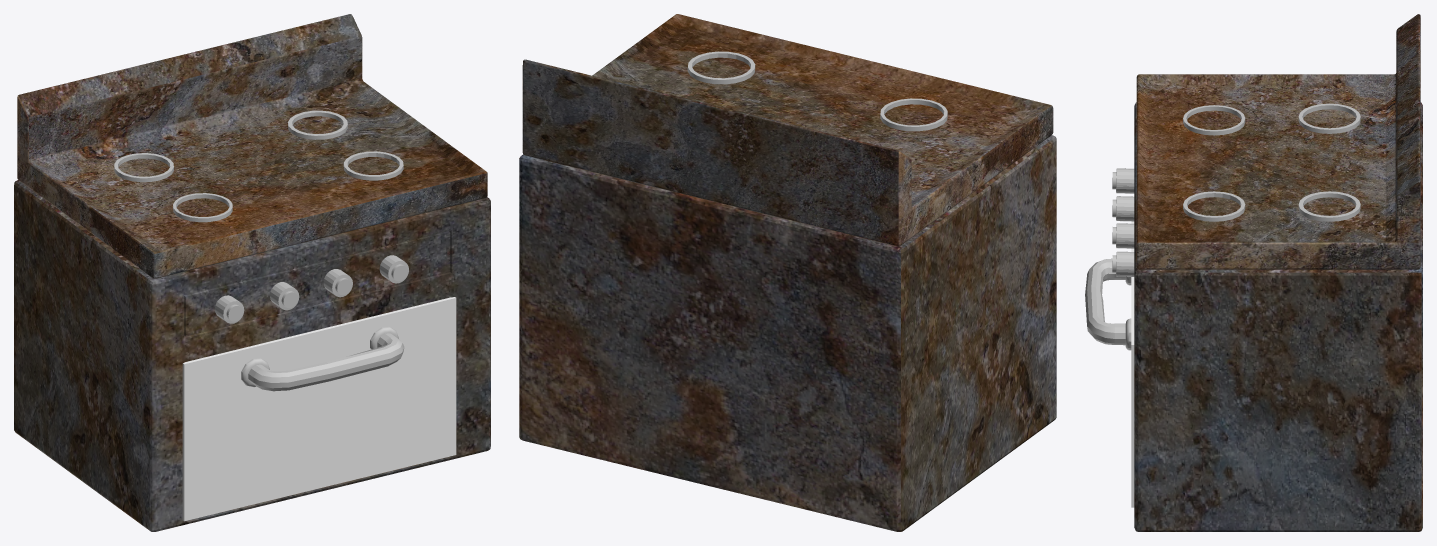
Rendered from FogaoRE1.fbx.
3 renders of one model, left to right at view 1: azimuth 30°, elevation 25°; view 2: azimuth 150°, elevation 25°; view 3: azimuth 270°, elevation 25°, orthographic. The views are drawn at different scales.
Visible parts, largest first — view 1: pCube1, pCube2, pCube3, pCylinder8, pCylinder13, pCylinder5, pCylinder4, pCylinder3, pCylinder2; view 2: pCube1, pCube2, pCylinder13; view 3: pCube1, pCube2, pCylinder13, pCylinder8, pCube3, pCylinder4, pCylinder2, pCylinder3, pCylinder5.
Part boxes in pixels (<box>): pCube1: <box>14,180,490,531</box>; pCube2: <box>17,14,487,278</box>; pCube3: <box>182,297,456,521</box>; pCylinder8: <box>241,326,404,391</box>; pCylinder13: <box>114,110,403,222</box>; pCylinder5: <box>379,255,408,283</box>; pCylinder4: <box>323,269,352,297</box>; pCylinder3: <box>269,282,299,310</box>; pCylinder2: <box>214,295,244,323</box>; pCube1: <box>519,135,1056,531</box>; pCube2: <box>522,14,1053,246</box>; pCylinder13: <box>687,51,947,131</box>; pCube1: <box>1134,102,1422,531</box>; pCube2: <box>1136,14,1420,269</box>; pCylinder13: <box>1183,103,1360,221</box>; pCylinder8: <box>1085,258,1131,350</box>; pCube3: <box>1131,221,1134,507</box>; pCylinder4: <box>1112,223,1134,248</box>; pCylinder2: <box>1112,168,1134,193</box>; pCylinder3: <box>1112,196,1134,221</box>; pCylinder5: <box>1112,251,1134,276</box>.
Size of the model in its own units: 0.7066 by 0.6689 by 0.5855.
